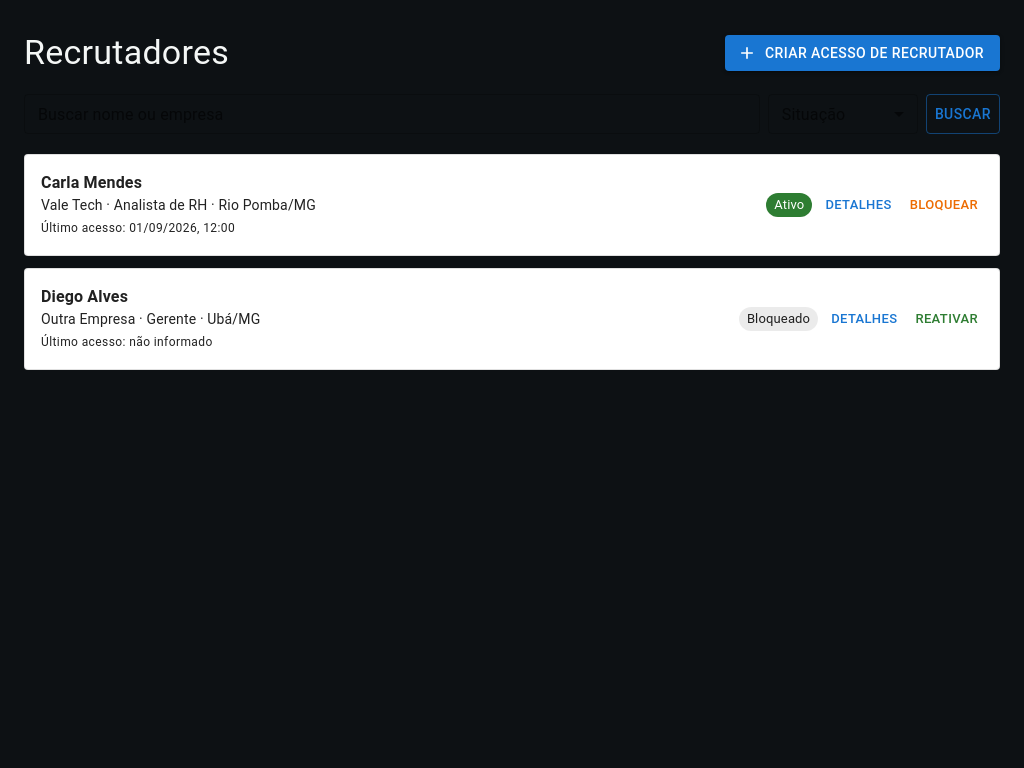
AdminRecruitersView detail › shows a blocked recruiter without last access and closes the detail
Expected: the text "Carla Mendes" is shown, [41, 173, 142, 192]
Click the button "Detalhes" next to "Bloqueado" at point(864, 319), box [826, 304, 902, 334]
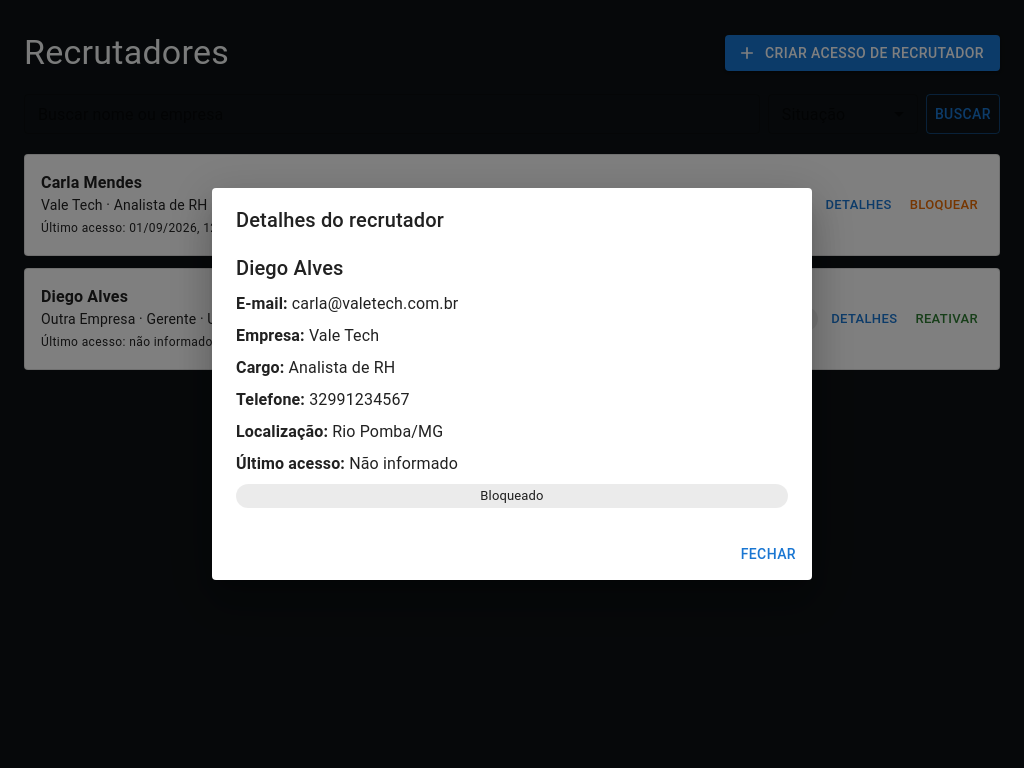
Result: the heading "Diego Alves" is shown at [236, 256, 344, 280]
Result: the text "Não informado" is shown at [349, 454, 458, 473]
Result: the text "Bloqueado" is shown at [480, 488, 544, 503]
Click the button "Fechar" at point(768, 554), box [733, 536, 804, 572]
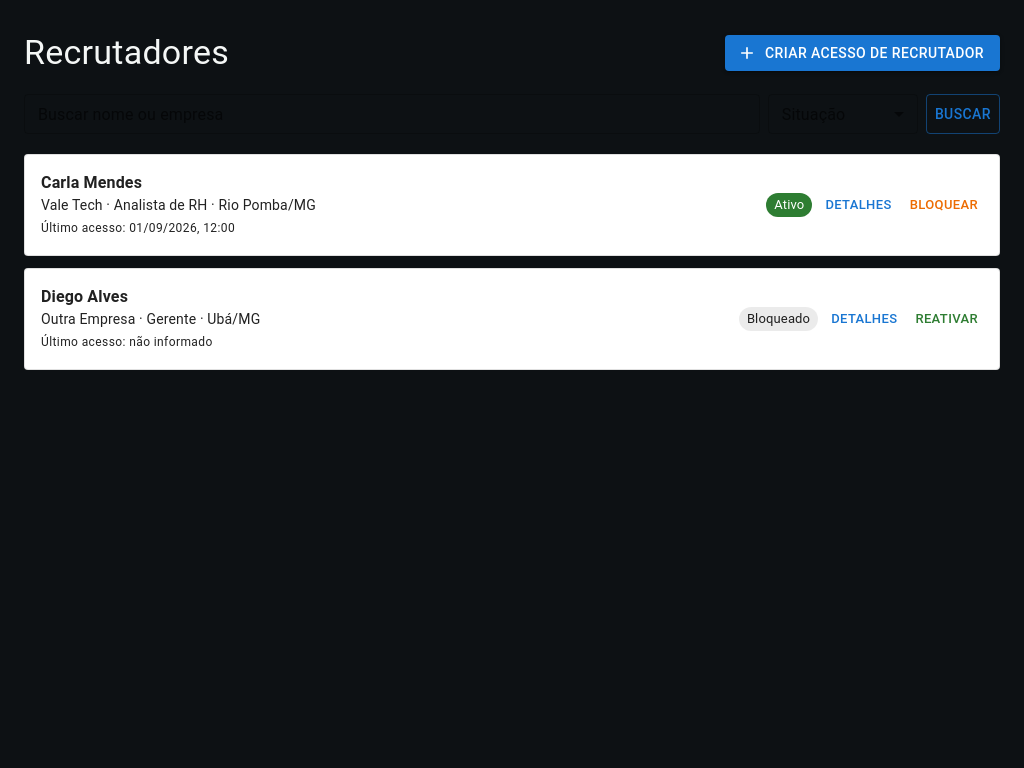
Result: the heading "Detalhes do recrutador" is gone
